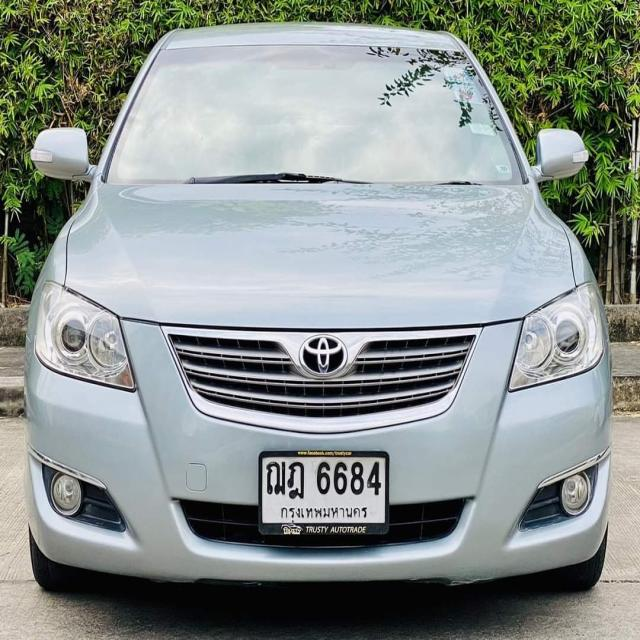license_plate: (258, 449, 390, 539)
